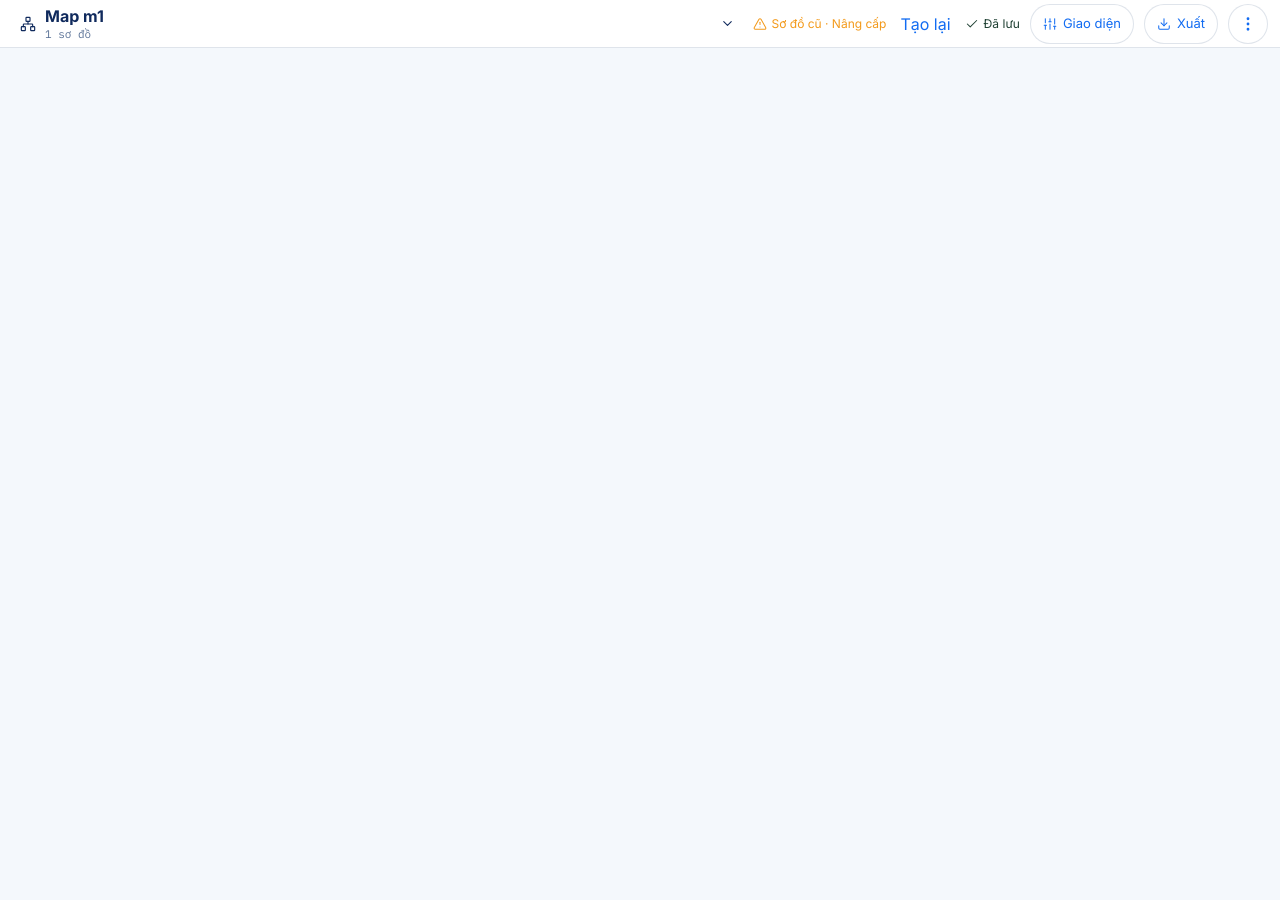
Test case: Export Studio — PDF orientation control reflects the real auto-orientation contract › mode="map": shows the static "Tự động theo nội dung" note, not an editable Dọc/Ngang toggle
This screenshot has width=1280, height=900.
Click the button with aria-label "Xuất sơ đồ": {"x": 1181, "y": 24} x1=1144 y1=4 x2=1218 y2=44
(page scrolled)
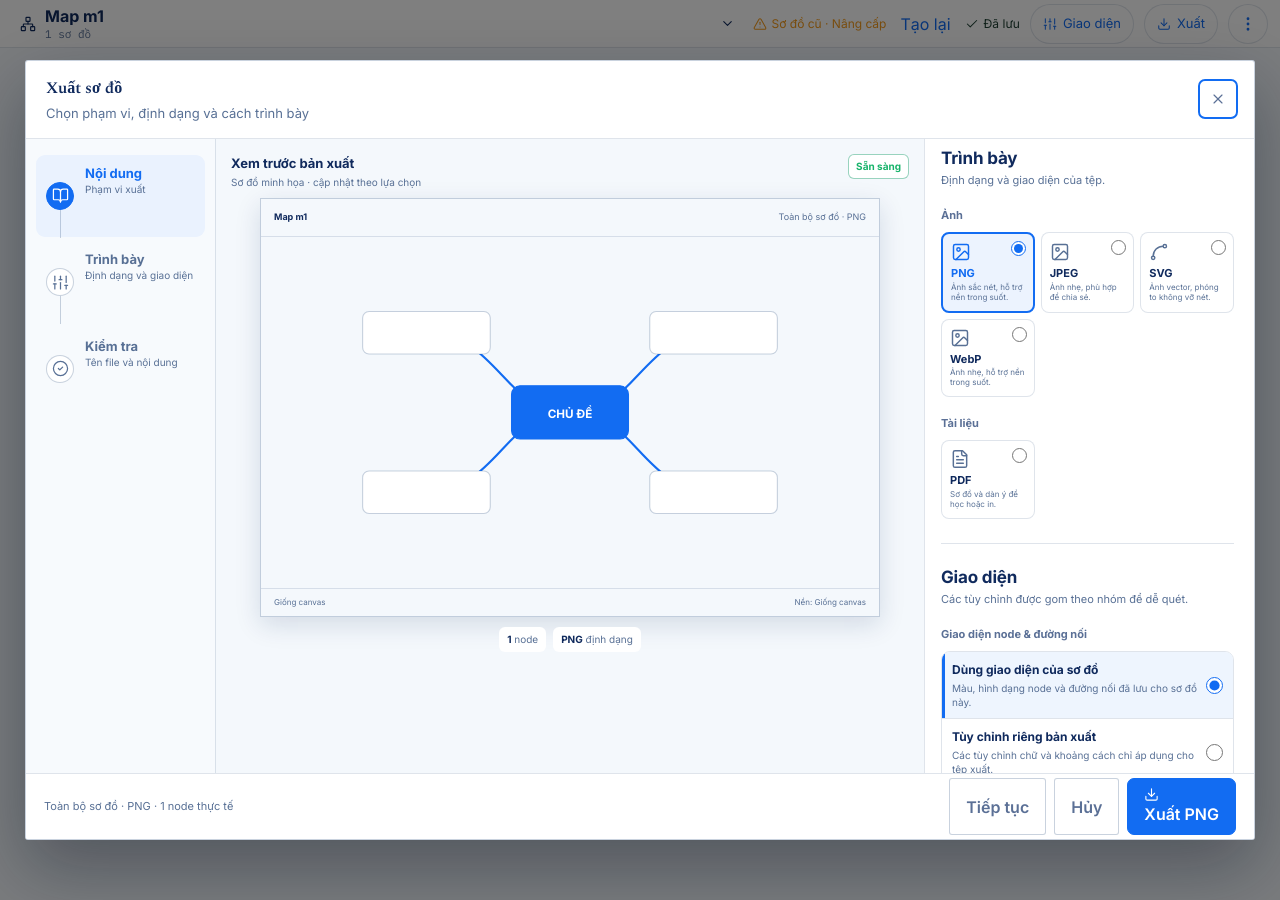
Click the radio button named "mm-export-format": {"x": 1019, "y": 456} x1=1012 y1=448 x2=1027 y2=463
(page scrolled)
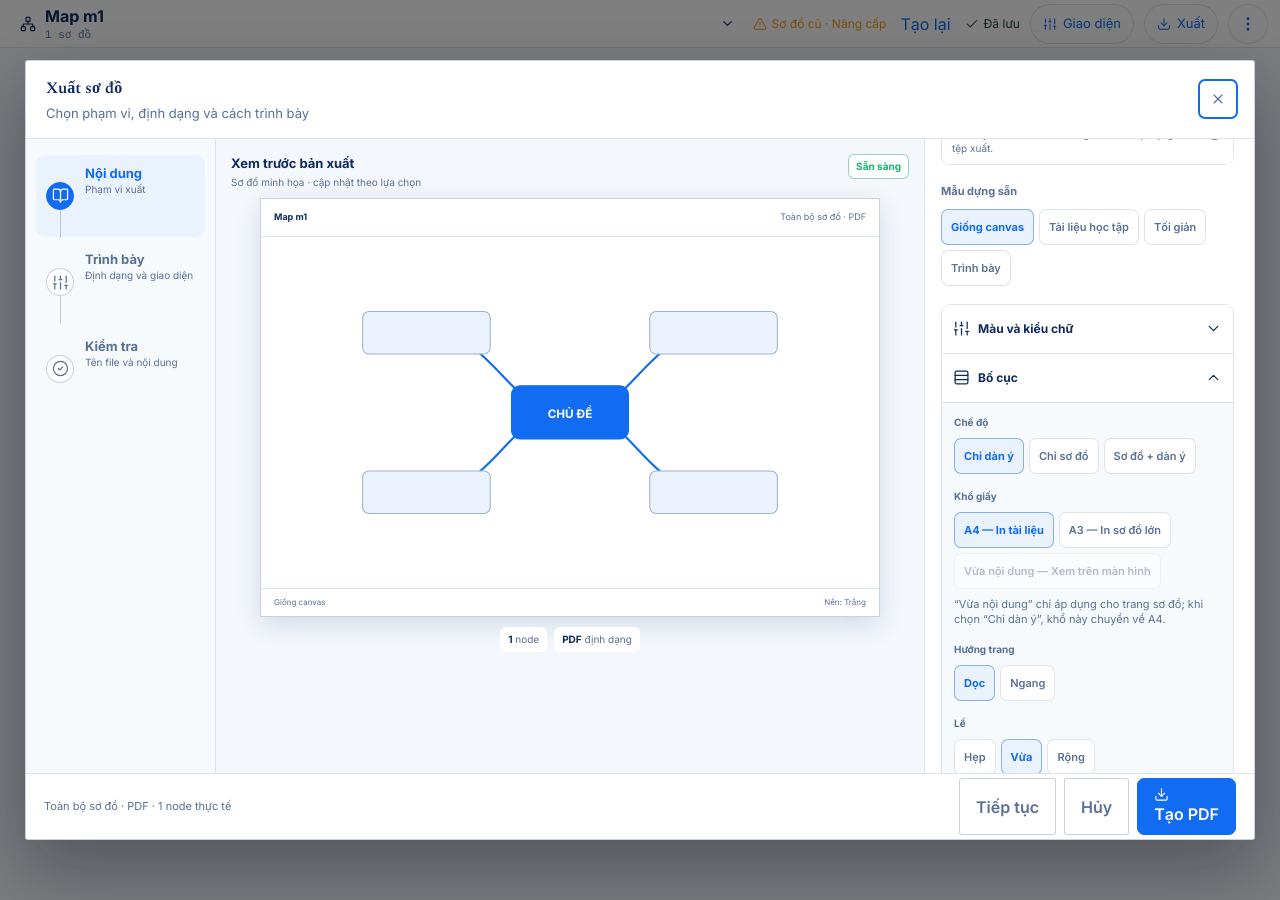
Check: the button "Chỉ sơ đồ" is shown
Click the button "Chỉ sơ đồ": {"x": 1064, "y": 456} x1=1029 y1=438 x2=1098 y2=474
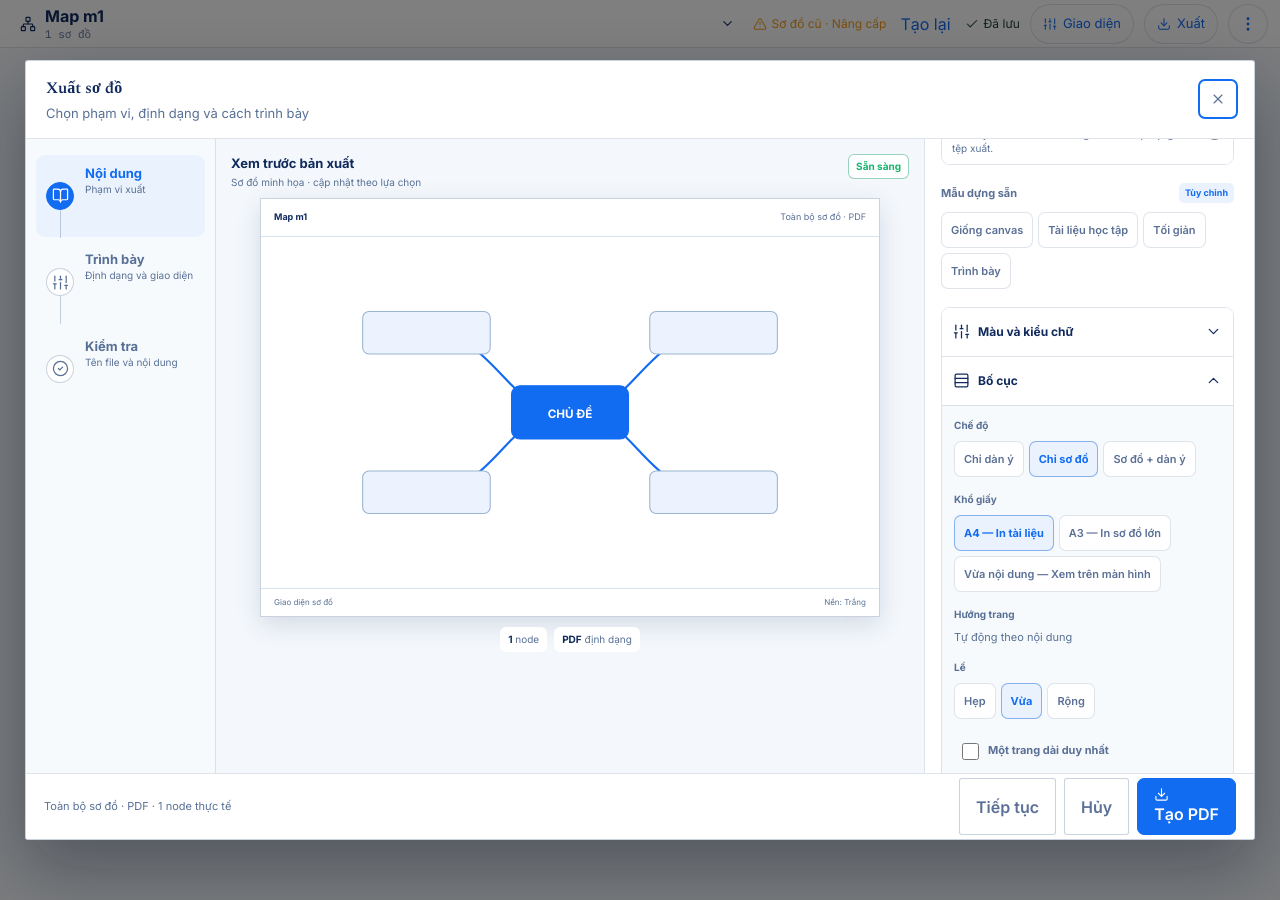
Check: the element with class "export-control__label" shows "Tự động theo nội dung", box x1=954 y1=630 x2=1072 y2=644
Check: the button "Dọc" is gone
Check: the button with class "export-control__label" no longer shows "Dọc"
